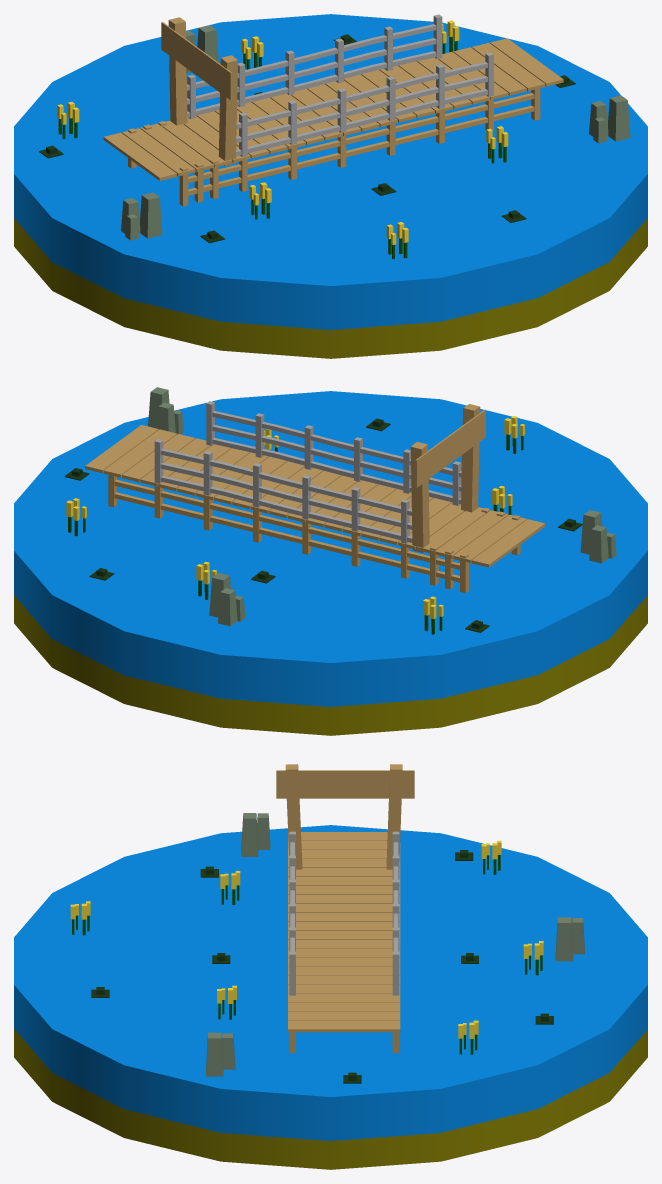
The model's file is bridge.FBX.
The picture shows the model from 3 angles, top to bottom: view 1: azimuth 30°, elevation 25°; view 2: azimuth 150°, elevation 25°; view 3: azimuth 270°, elevation 25°; orthographic projection.
Parts seen in each view (by area): view 1: Cylinder002, Box051, Cylinder001, Box070, Box059, Box117; view 2: Cylinder002, Box051, Cylinder001, Box071, Box118, Box117, Box070, Box059; view 3: Cylinder002, Box051, Cylinder001, Box117, Box059, Box070.
Boxes of the visible parts, x1,y1,x2,y2 form: Cylinder002: [14, 14, 647, 330]; Box051: [103, 17, 563, 206]; Cylinder001: [14, 218, 647, 358]; Box070: [140, 192, 162, 238]; Box059: [608, 95, 630, 141]; Box117: [197, 25, 218, 62]; Cylinder002: [14, 391, 647, 707]; Box051: [85, 401, 545, 593]; Cylinder001: [14, 595, 647, 735]; Box071: [589, 525, 608, 563]; Box118: [218, 588, 237, 626]; Box117: [209, 573, 230, 617]; Box070: [580, 510, 602, 554]; Box059: [148, 387, 169, 428]; Cylinder002: [14, 825, 647, 1140]; Box051: [276, 764, 414, 1052]; Cylinder001: [14, 1029, 647, 1169]; Box117: [555, 917, 572, 961]; Box059: [206, 1032, 223, 1076]; Box070: [241, 813, 258, 856].
Size of the model in its own units: 184 by 65.47 by 181.
